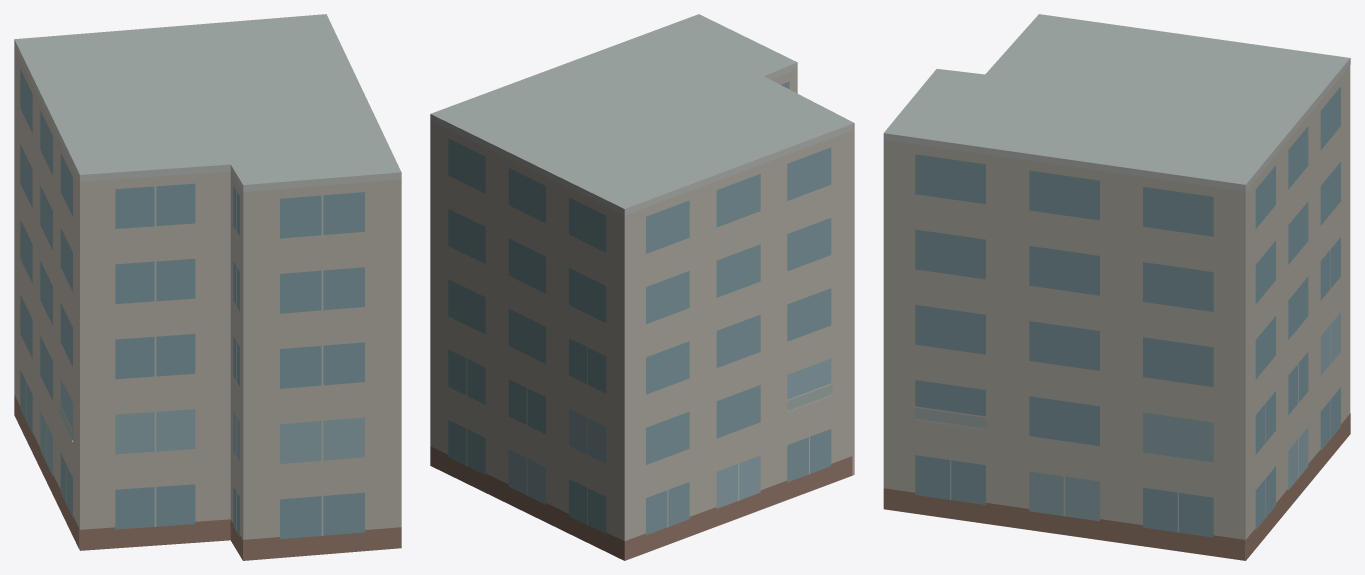
File: survey-upis-32848145.glb
The picture shows the model from 3 angles, left to right: view 1: azimuth 30°, elevation 25°; view 2: azimuth 150°, elevation 25°; view 3: azimuth 270°, elevation 25°; orthographic projection. The views are drawn at different scales.
Visible parts, largest first — view 1: survey-upis-32848145.tmp; view 2: survey-upis-32848145.tmp; view 3: survey-upis-32848145.tmp.
Part boxes in pixels (x1,y1,x2,y2): survey-upis-32848145.tmp: [14, 14, 401, 560]; survey-upis-32848145.tmp: [430, 14, 854, 560]; survey-upis-32848145.tmp: [883, 14, 1350, 560].
Size of the model in its own units: 12.97 by 13.3 by 14.98.
